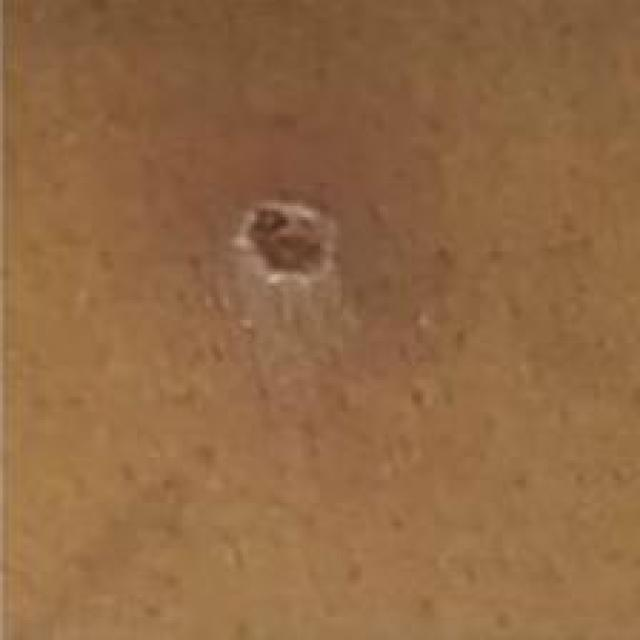monkeypox: (52, 96, 584, 485)
